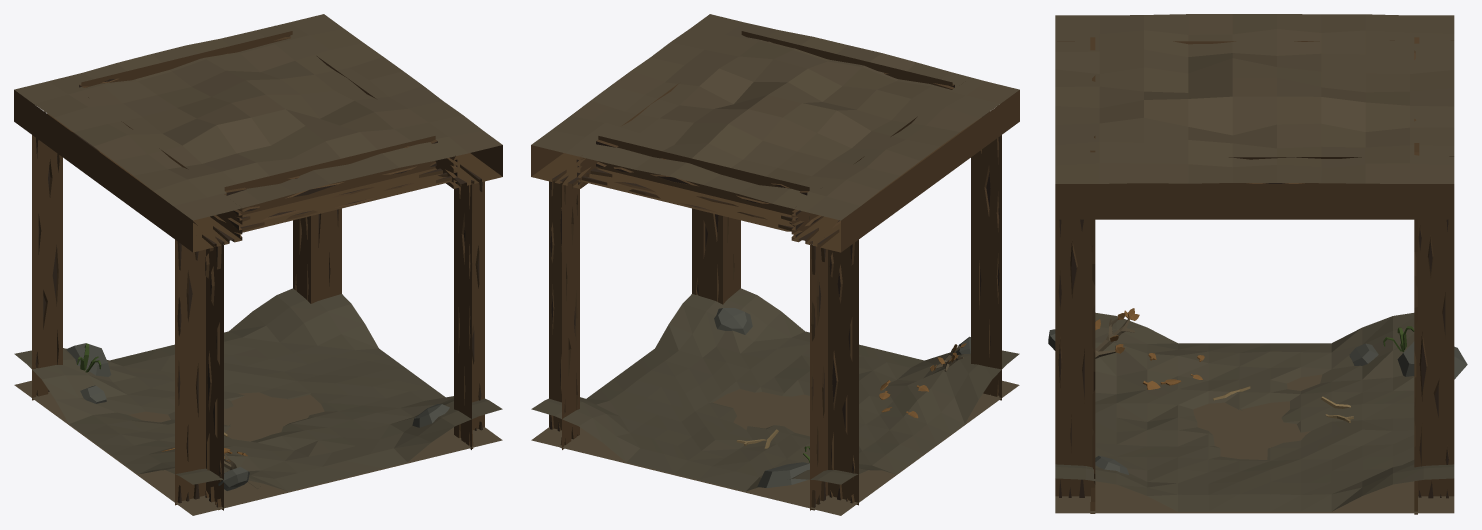
Rendered from Basement_Var1.glb.
The picture shows the model from 3 angles, left to right: view 1: azimuth 30°, elevation 25°; view 2: azimuth 150°, elevation 25°; view 3: azimuth 270°, elevation 25°; orthographic projection. The views are drawn at different scales.
Visible parts, largest first — view 1: Basement_Var1; view 2: Basement_Var1; view 3: Basement_Var1.
Part boxes in pixels (left/top/right/bottom): Basement_Var1: left=14, top=14, right=502, bottom=515; Basement_Var1: left=531, top=14, right=1019, bottom=515; Basement_Var1: left=1048, top=14, right=1467, bottom=514.
Size of the model in its own units: 4 by 3.9 by 4.21.
6 materials, 6 textured.
